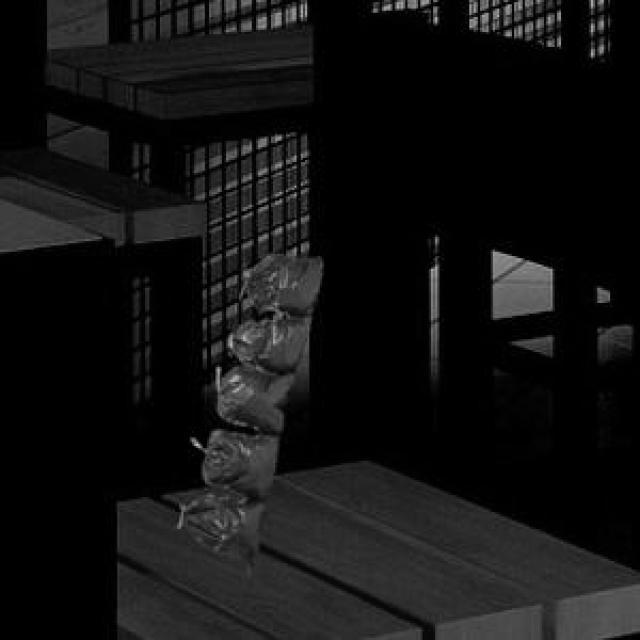miscellaneous trash: (179, 250, 318, 570)
